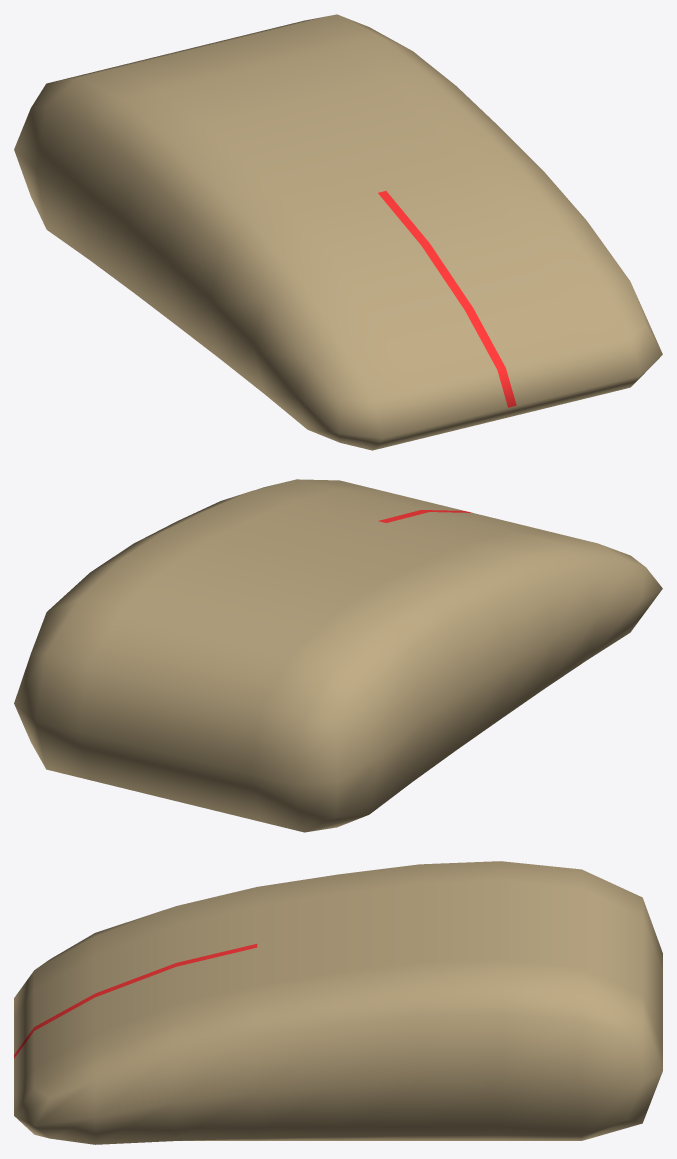
Rendered from Mouse.fbx.
The picture shows the model from 3 angles, top to bottom: view 1: azimuth 30°, elevation 25°; view 2: azimuth 150°, elevation 25°; view 3: azimuth 270°, elevation 25°; orthographic projection. The views are drawn at different scales.
Parts seen in each view (by area): view 1: Box001; view 2: Box001; view 3: Box001.
Part boxes in pixels (left/top/right/bottom): Box001: left=14, top=14, right=662, bottom=450; Box001: left=14, top=479, right=662, bottom=832; Box001: left=14, top=861, right=662, bottom=1144.
Bounding box in the file's own units: 40 × 19.32 × 70.
